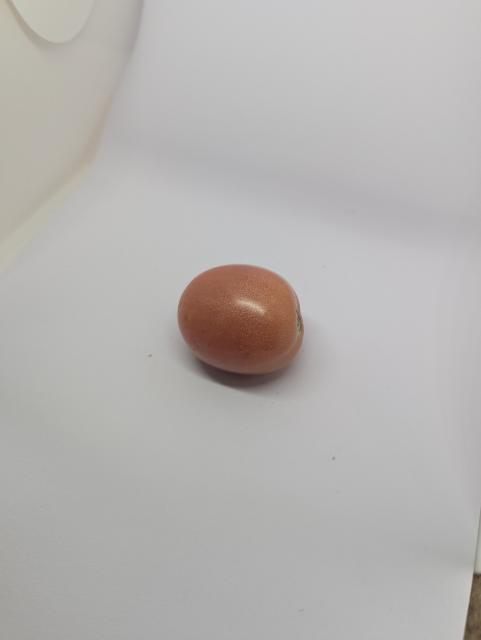turning: (167, 253, 319, 388)
